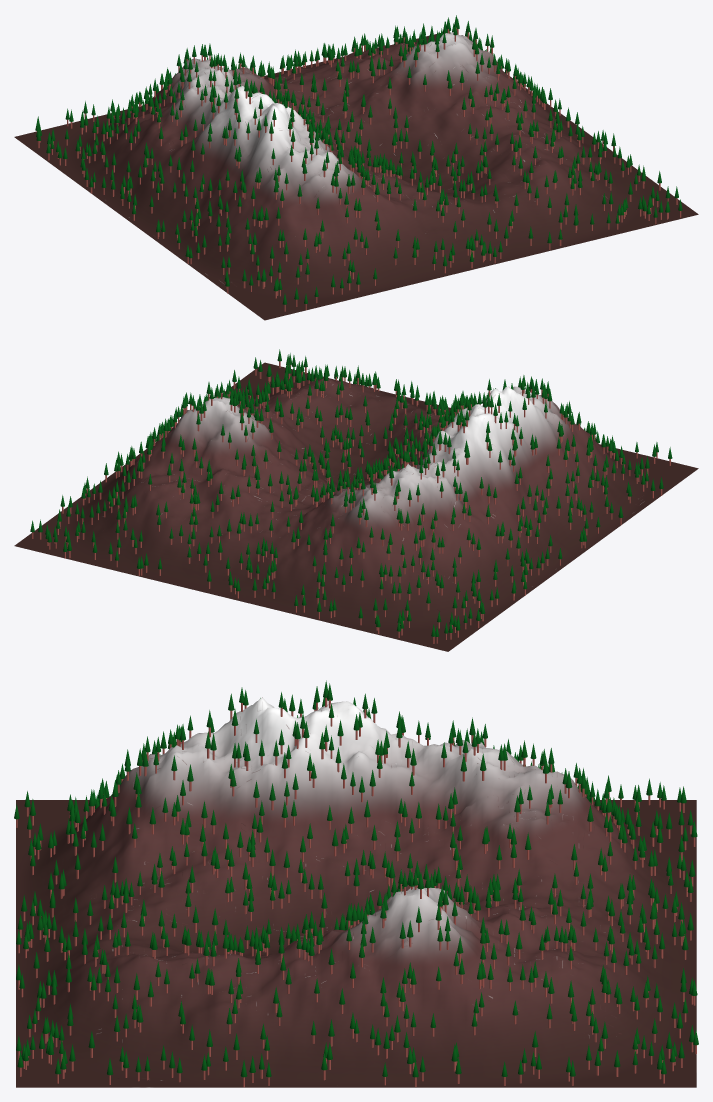
The picture shows the model from 3 angles, top to bottom: view 1: azimuth 30°, elevation 25°; view 2: azimuth 150°, elevation 25°; view 3: azimuth 270°, elevation 25°; orthographic projection. The views are drawn at different scales.
Visible parts, largest first — view 1: Landscape.003; view 2: Landscape.003; view 3: Landscape.003.
Boxes of the visible parts, x1,y1,x2,y2 form: Landscape.003: [14, 32, 698, 320]; Landscape.003: [14, 362, 698, 651]; Landscape.003: [16, 697, 696, 1087].
Bounding box in the file's own units: 2.01 × 0.5935 × 2.01.
3 materials, 1 textured.
